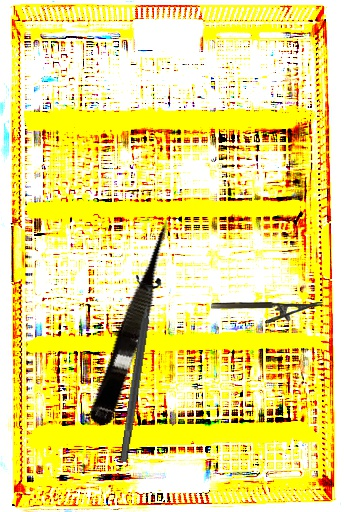Fixation Ring: (109, 274, 164, 465)
Micro Scissor: (86, 212, 187, 431)
Needle Holder: (211, 302, 323, 323)
